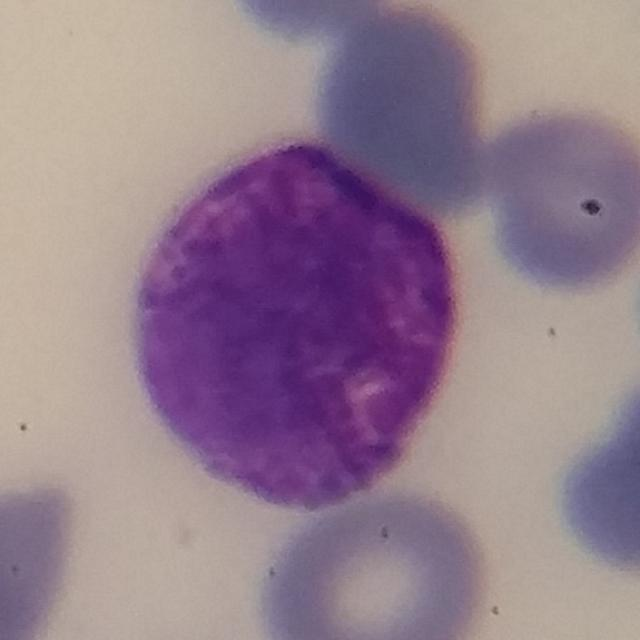baso: (136, 141, 468, 517)
